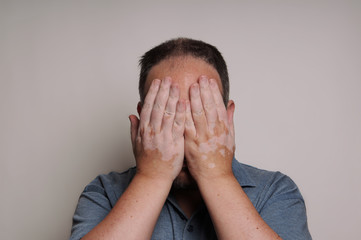vitiligo: (139, 72, 235, 167)
